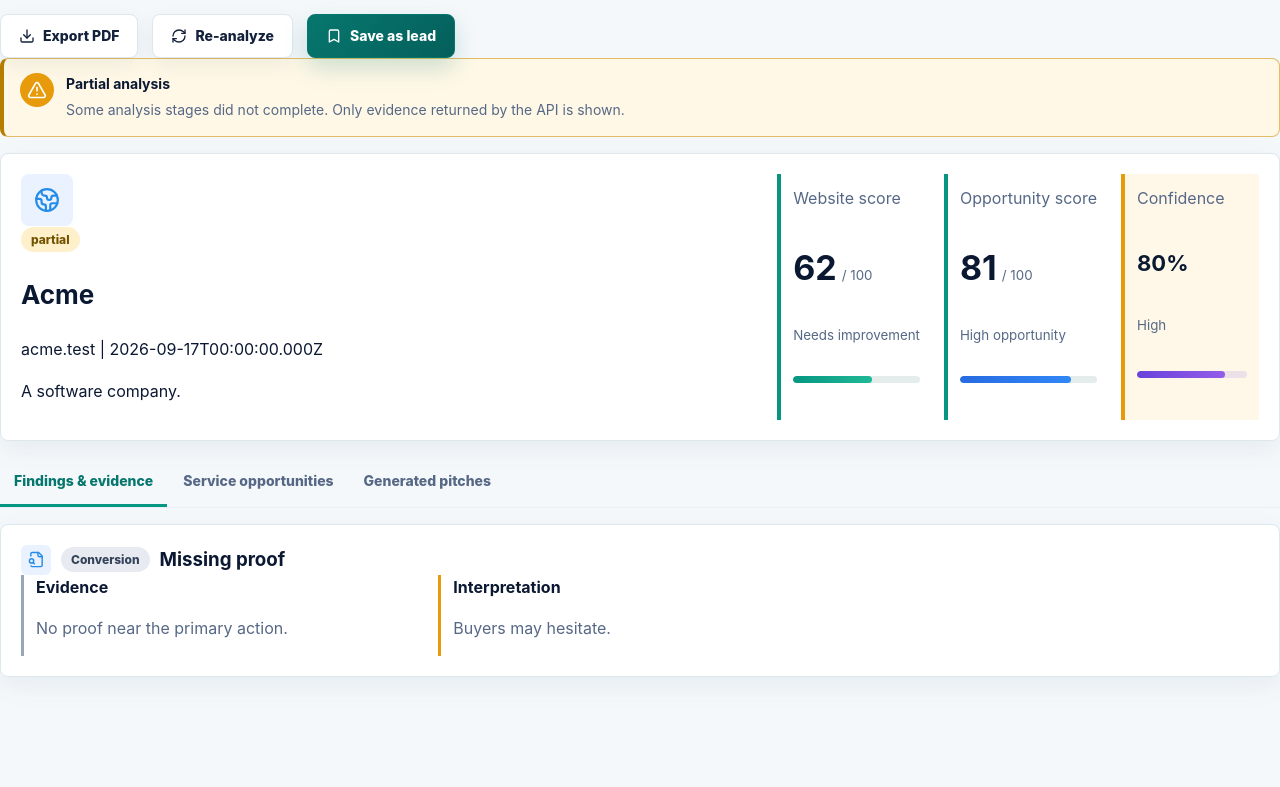
it: production detail integrations › renders partial analysis evidence and grounded pitches
Check: the text "Some analysis stages did not complete" is shown, box [66,101,324,118]
Check: the text "No proof near the primary action." is shown, box [36,618,288,638]
What coordinates should you click on to do the following:
click the tab "Generated pitches"
I would click on:
 (427, 483)
Its box is [350,459,505,507].
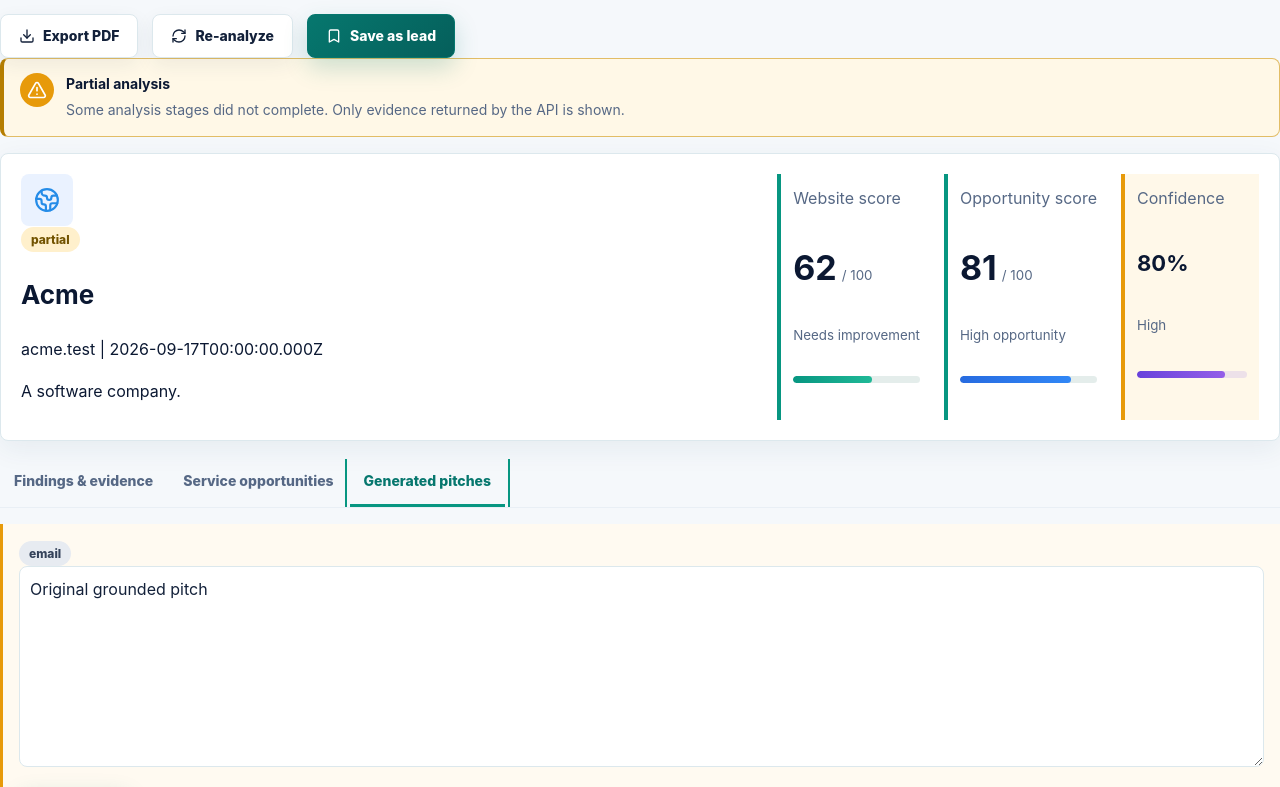
Check: the text box named "email pitch" holds "Original grounded pitch", box [19,566,1264,767]
